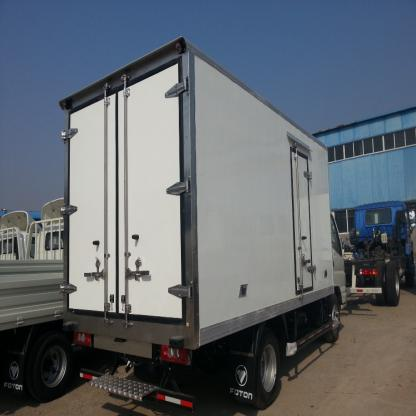normal-truck: (60, 51, 336, 392)
